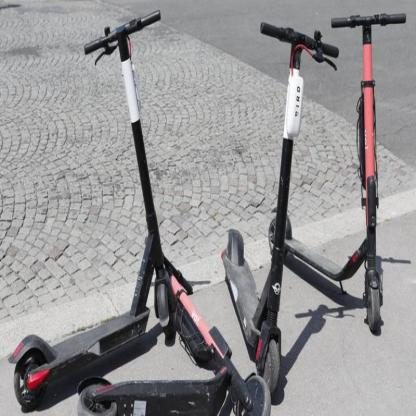kickboard: (3, 0, 173, 416), (219, 9, 341, 397), (270, 0, 410, 336), (82, 227, 276, 416)
